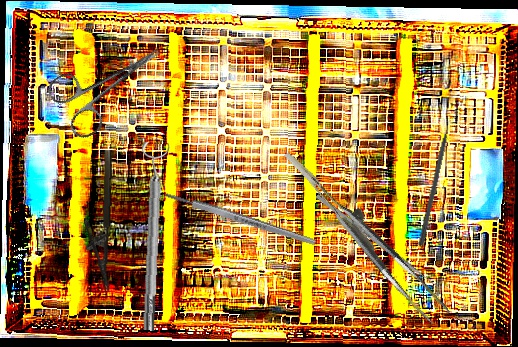Fixation Ring: (131, 141, 173, 332)
Iris Scissors: (44, 24, 178, 143)
Needle Holder: (81, 149, 114, 292)
Pusher: (315, 193, 445, 294), (417, 112, 456, 247)
Scalpel Handle: (164, 189, 317, 248)
Tissue Forceps: (284, 128, 450, 339)
